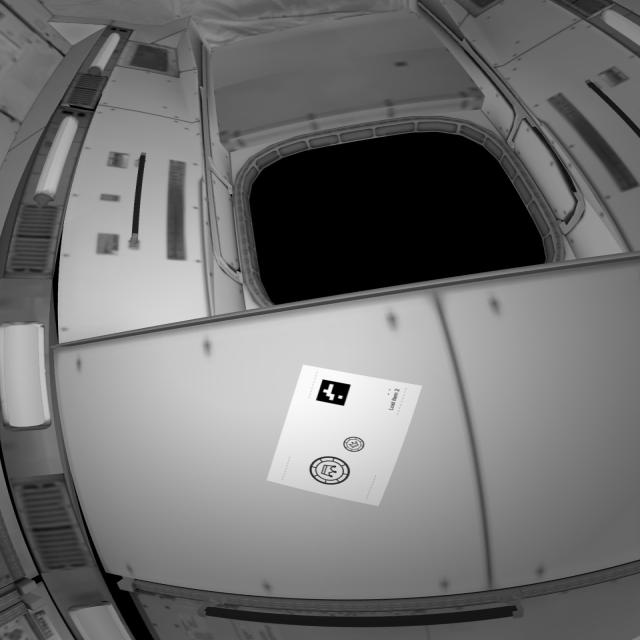coin: (308, 457, 355, 487), (342, 436, 369, 455)
